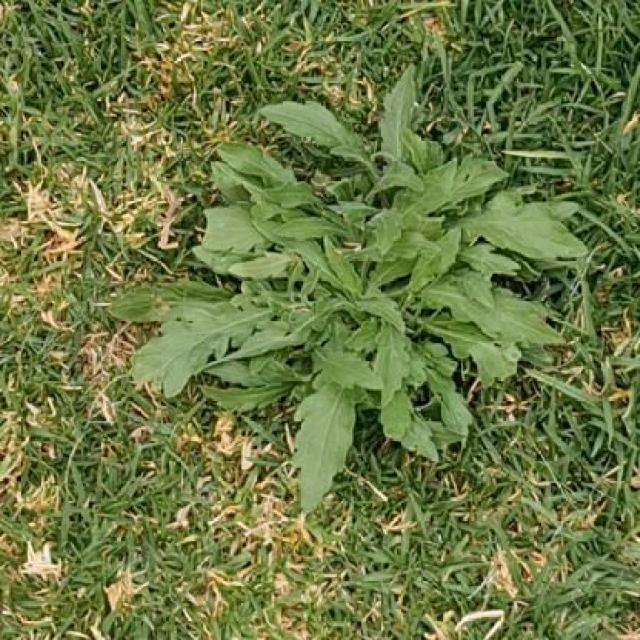weed: (114, 71, 588, 510)
